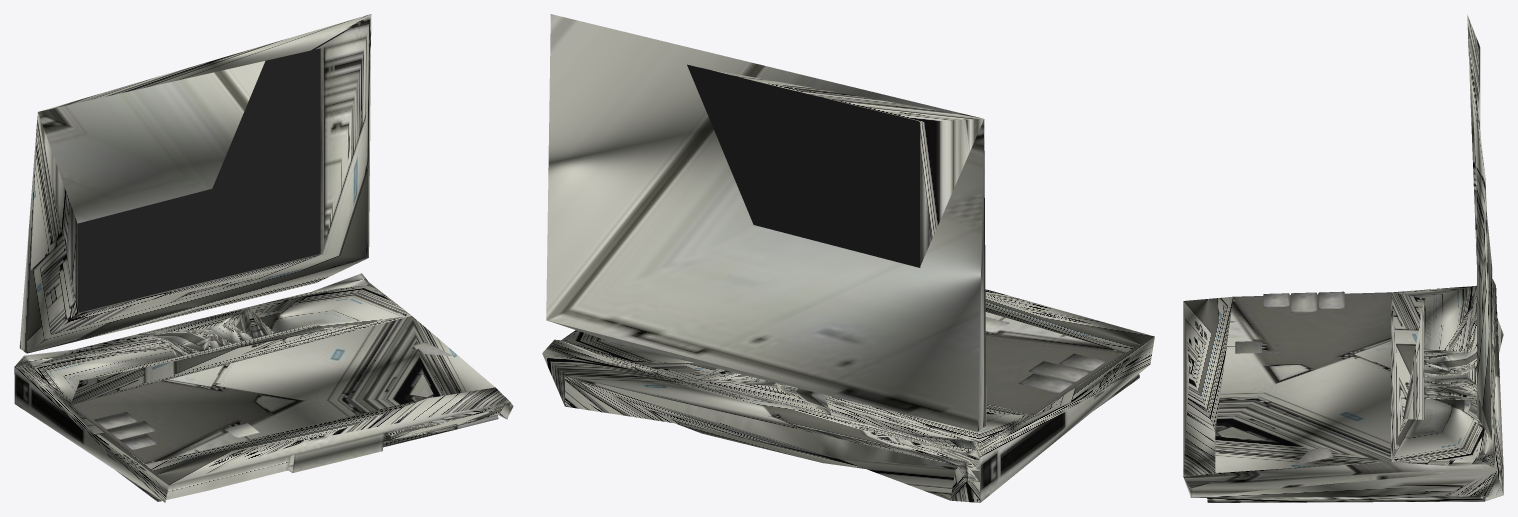
The model's file is classic_laptop.glb.
3 renders of one model, left to right at view 1: azimuth 30°, elevation 25°; view 2: azimuth 150°, elevation 25°; view 3: azimuth 270°, elevation 25°, orthographic. The views are drawn at different scales.
Visible parts, largest first — view 1: classic_laptop_screen, classic_laptop; view 2: classic_laptop_screen, classic_laptop, classic_laptop_stand; view 3: classic_laptop, classic_laptop_screen.
Part boxes in pixels (x1,y1,x2,y2): classic_laptop_screen: (19, 14, 371, 353); classic_laptop: (14, 273, 513, 502); classic_laptop_screen: (546, 14, 986, 431); classic_laptop: (542, 289, 1154, 502); classic_laptop_stand: (676, 423, 864, 468); classic_laptop: (1183, 279, 1503, 502); classic_laptop_screen: (1467, 15, 1492, 440).
Bounding box in the file's own units: 0.6512 × 0.539 × 0.4834.
2 materials, 1 textured.
